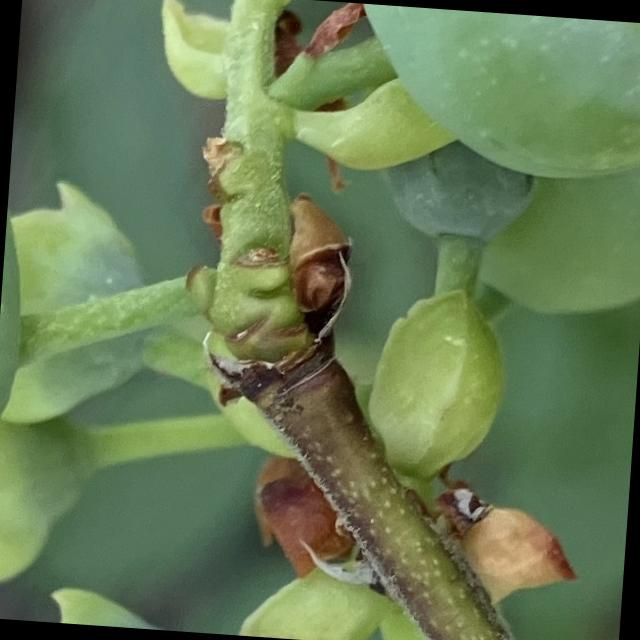Blueberries: (335, 1, 640, 189)
